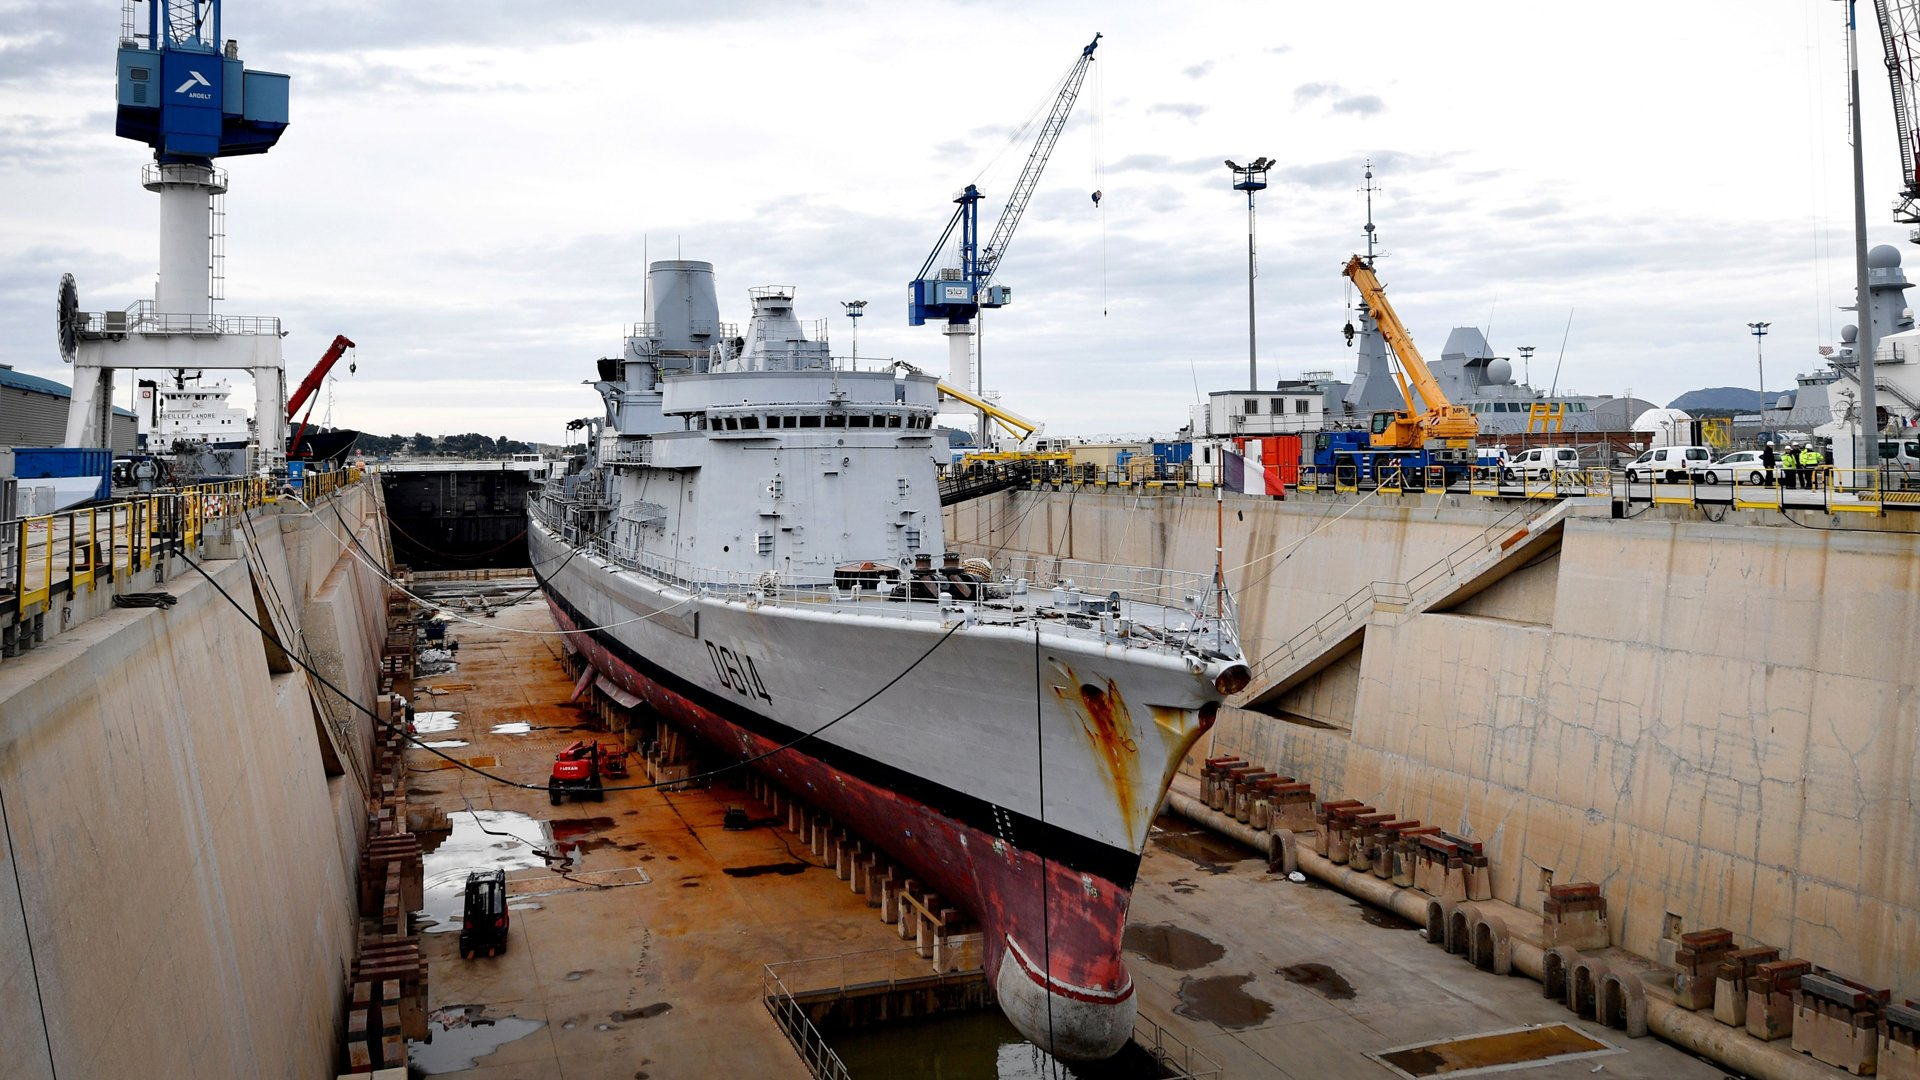rust: (971, 835, 1117, 948), (796, 762, 943, 862), (1069, 673, 1139, 816)
